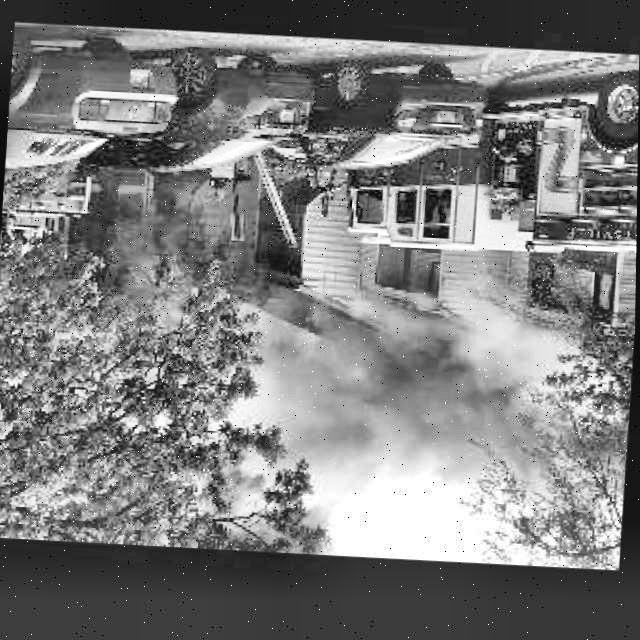Fire: (233, 302, 325, 363)
Smoke: (266, 294, 565, 514)
